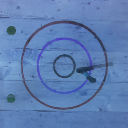Axe Tip: (85, 67, 94, 69)
